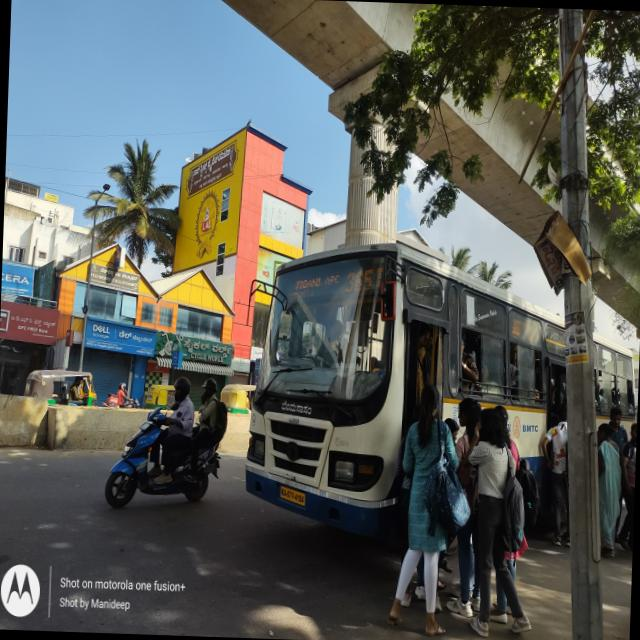bus: (238, 215, 640, 566)
display: (271, 252, 396, 308), (508, 304, 546, 350)
dnumber: (342, 264, 384, 296), (510, 314, 521, 340)
